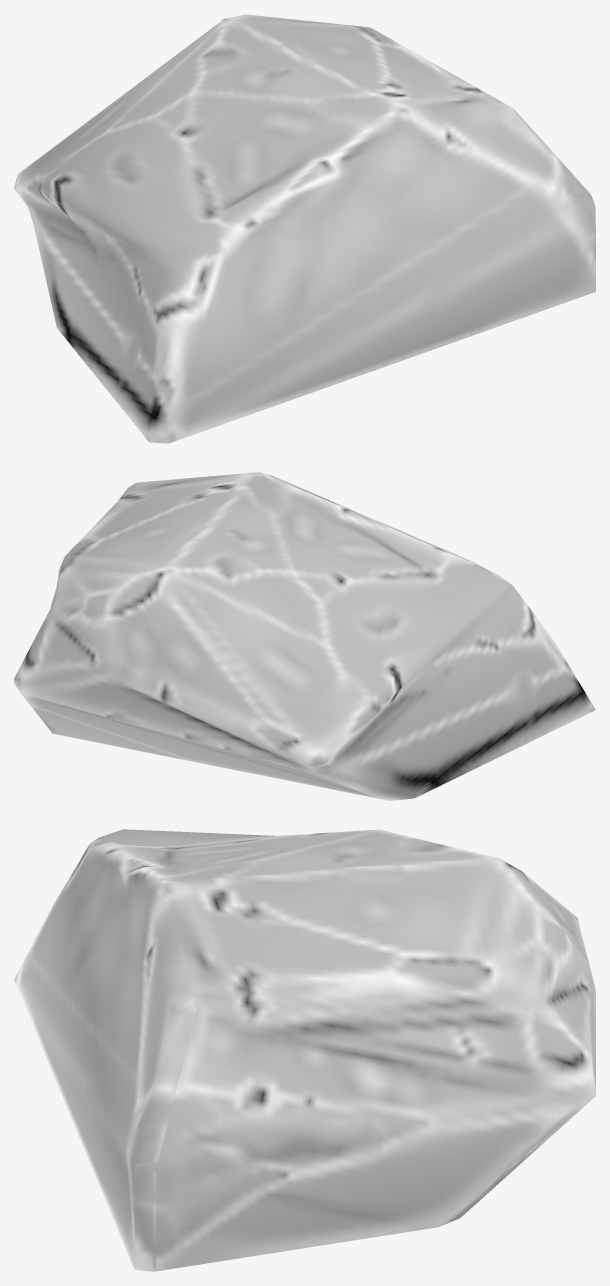
Rendered from rock_medium_2.glb.
The picture shows the model from 3 angles, top to bottom: view 1: azimuth 30°, elevation 25°; view 2: azimuth 150°, elevation 25°; view 3: azimuth 270°, elevation 25°; orthographic projection. The views are drawn at different scales.
Visible parts, largest first — view 1: rock_medium_2_prop-col; view 2: rock_medium_2_prop-col; view 3: rock_medium_2_prop-col.
Boxes of the visible parts, x1,y1,x2,y2 form: rock_medium_2_prop-col: (14, 14, 595, 443); rock_medium_2_prop-col: (14, 472, 595, 800); rock_medium_2_prop-col: (14, 829, 595, 1271).
Size of the model in its own units: 2.19 by 0.954 by 1.78.
1 material, 1 textured.
